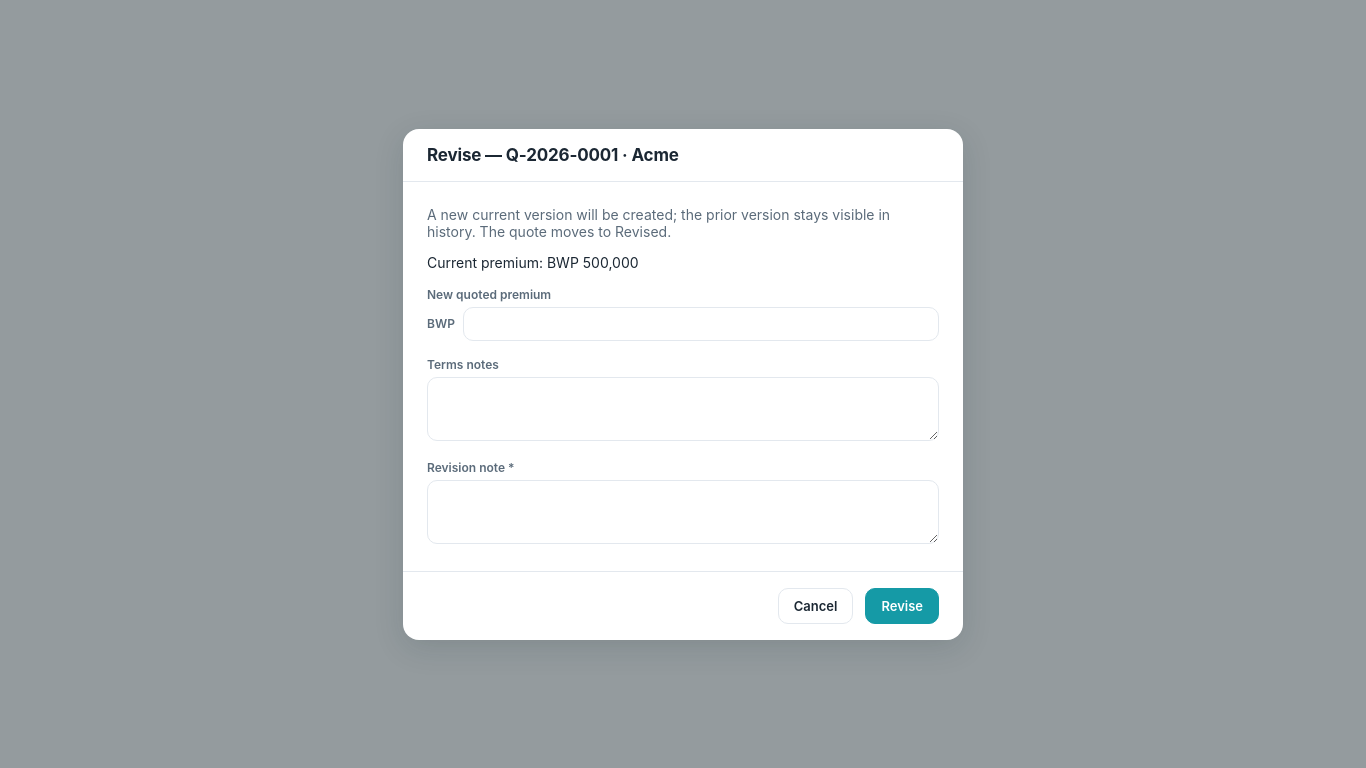
Test: ReviseQuoteDialog › click_WhenConfirmedWithoutChangeOrRevisionNote_ShouldShowInlineErrors
Click the button with test id "dialog-primary-button".
click(902, 606)  # box [865, 588, 939, 624]
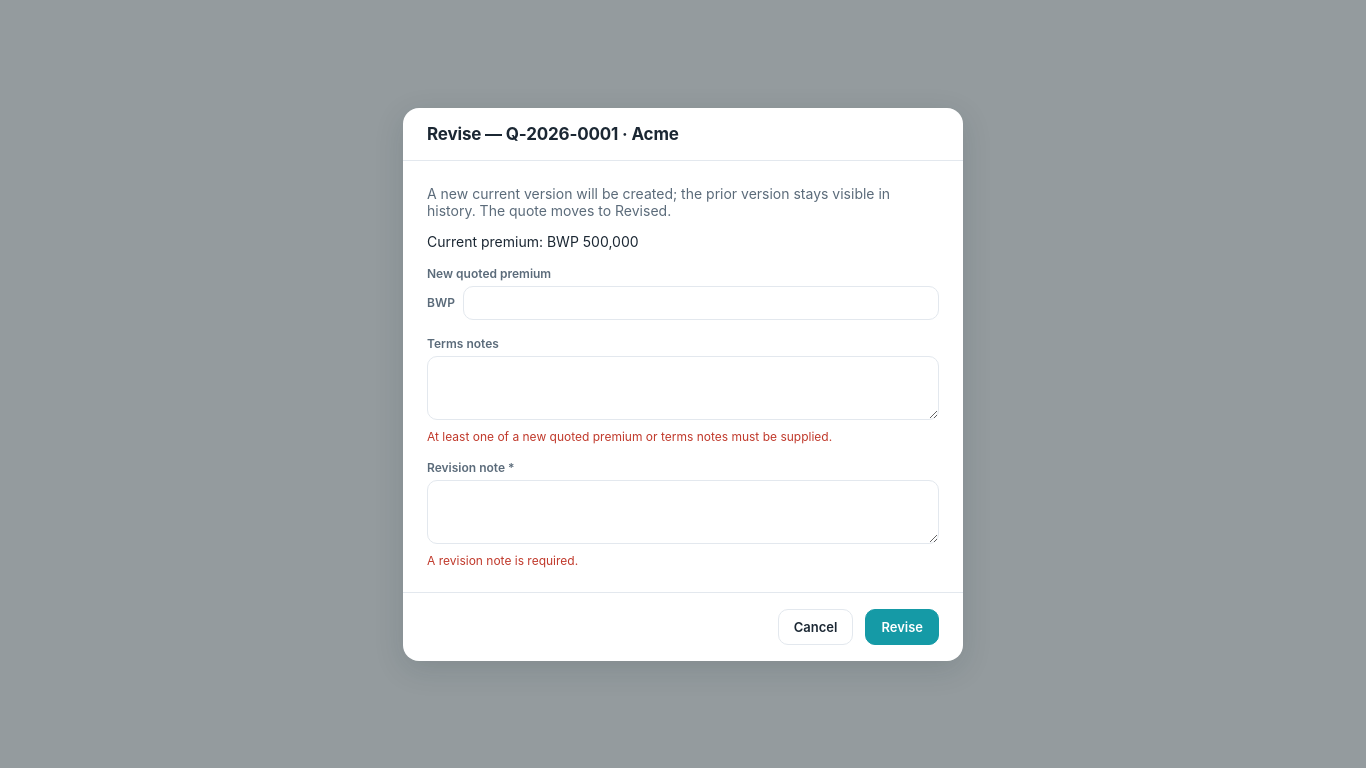
Check: the message with test id "field-error-change" reads "At least one of a new quoted premium or terms notes must be supplied.", box [427, 428, 832, 444]
Check: the message with test id "field-error-revision-note" reads "A revision note is required.", box [427, 552, 578, 568]
